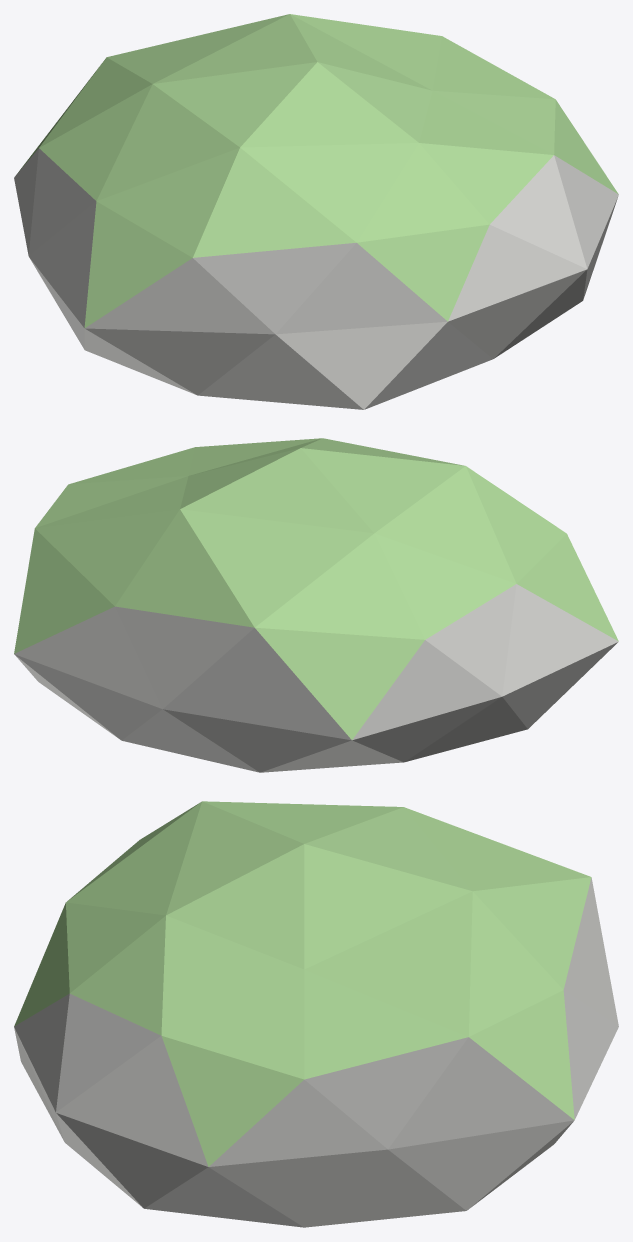
The model's file is rock_small_B.glb.
The picture shows the model from 3 angles, top to bottom: view 1: azimuth 30°, elevation 25°; view 2: azimuth 150°, elevation 25°; view 3: azimuth 270°, elevation 25°; orthographic projection. The views are drawn at different scales.
Parts seen in each view (by area): view 1: rock_small_B; view 2: rock_small_B; view 3: rock_small_B.
Boxes of the visible parts, x1,y1,x2,y2 form: rock_small_B: (14,14,618,409); rock_small_B: (14,438,618,772); rock_small_B: (14,801,618,1227).
Bounding box in the file's own units: 0.298 × 0.1244 × 0.2607.
